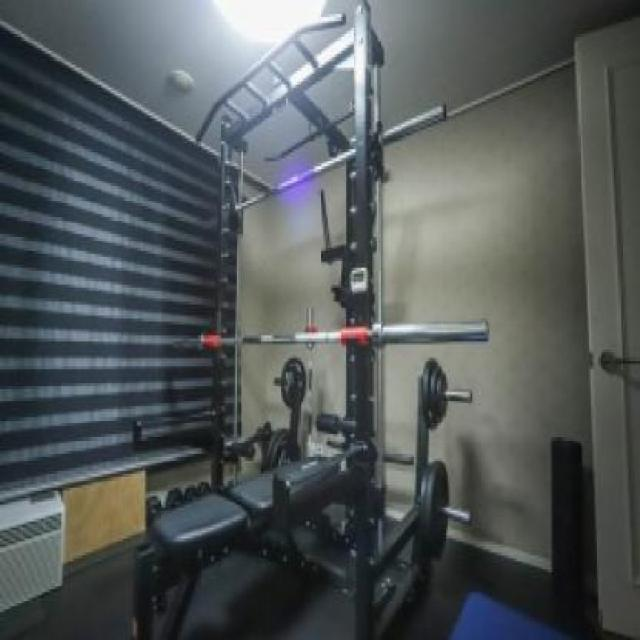smith machine: (194, 3, 455, 640)
